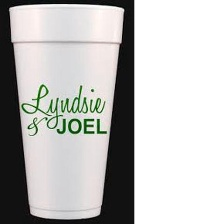paper_cup: (0, 0, 134, 224)
